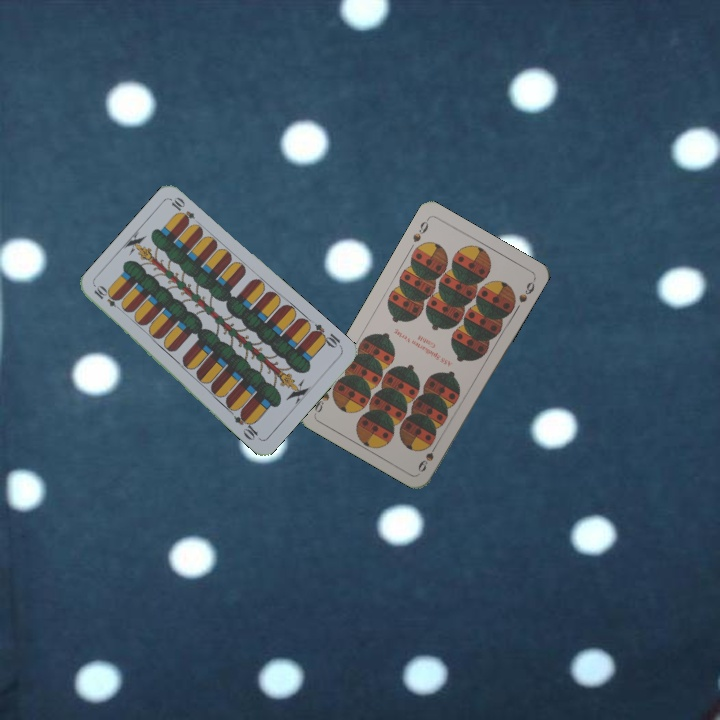E10: (90, 282, 126, 314), (307, 320, 344, 351)
S9: (414, 438, 441, 475), (408, 214, 431, 245)
